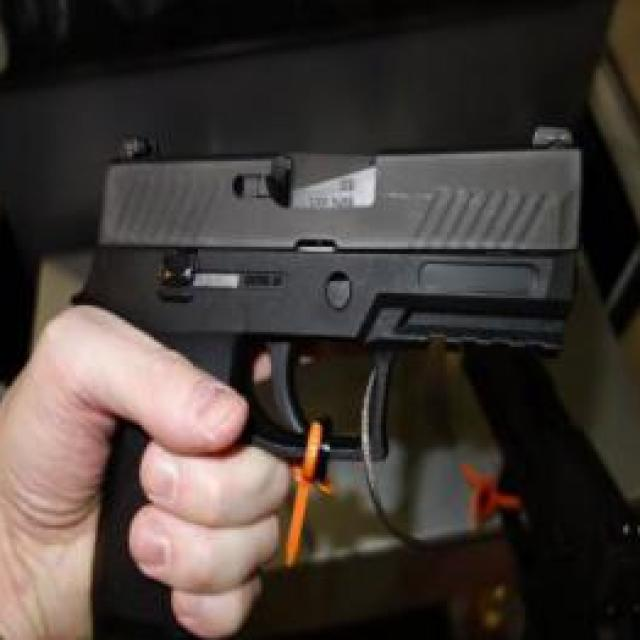pistol: (68, 119, 586, 640)
